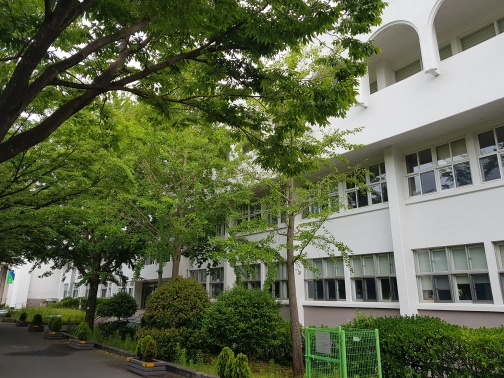Main Building of University: (284, 10, 504, 304)
